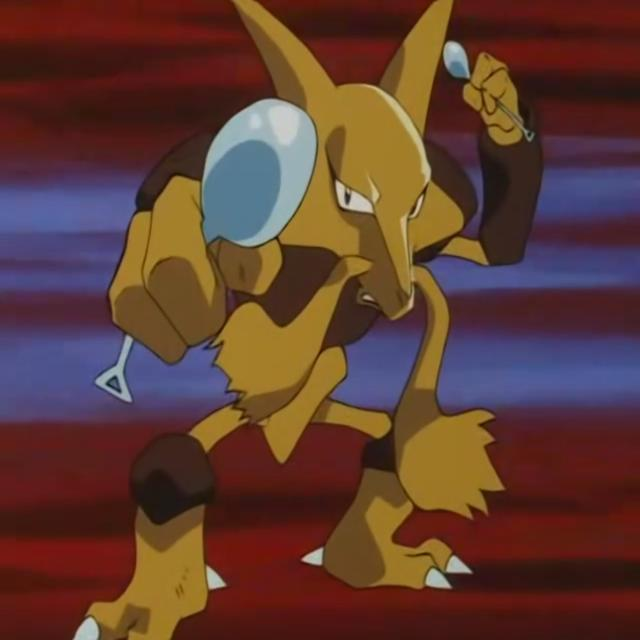Alakazam: (123, 18, 502, 597)
